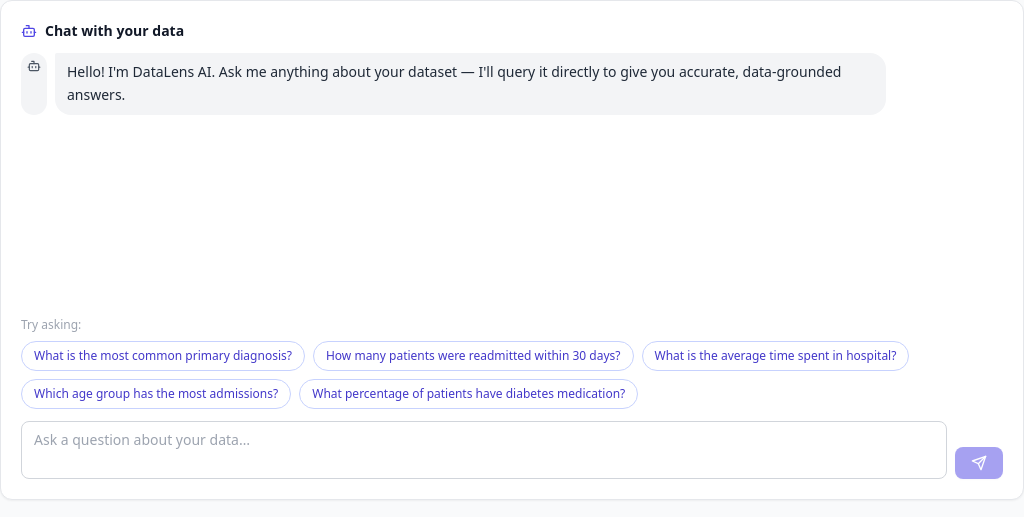
ChatPanel › shows user message after sending
The image size is (1024, 517).
Type "Which country?" into the text box with test id "chat-input" at (484, 450), box [21,421,947,479]
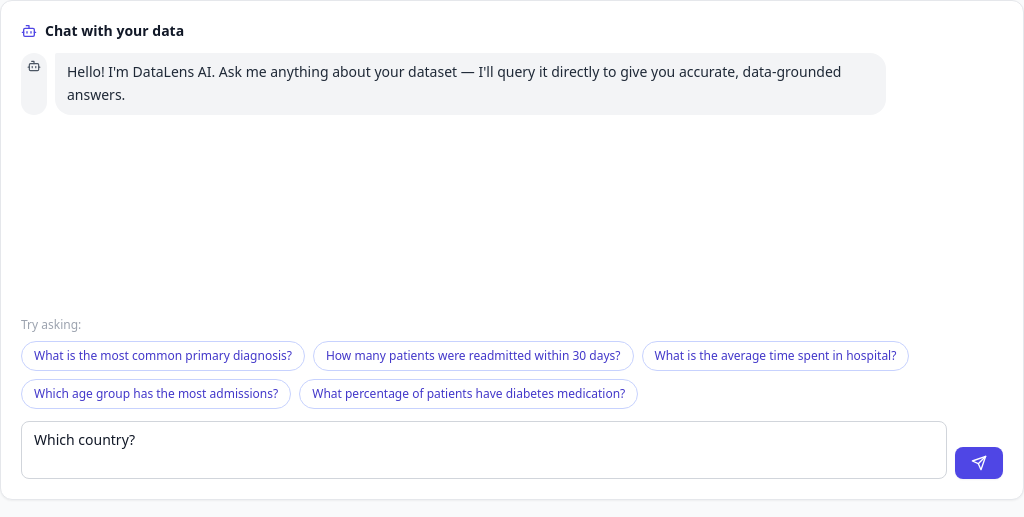
Click the button with test id "chat-send" at (979, 463), box [955,447,1003,479]
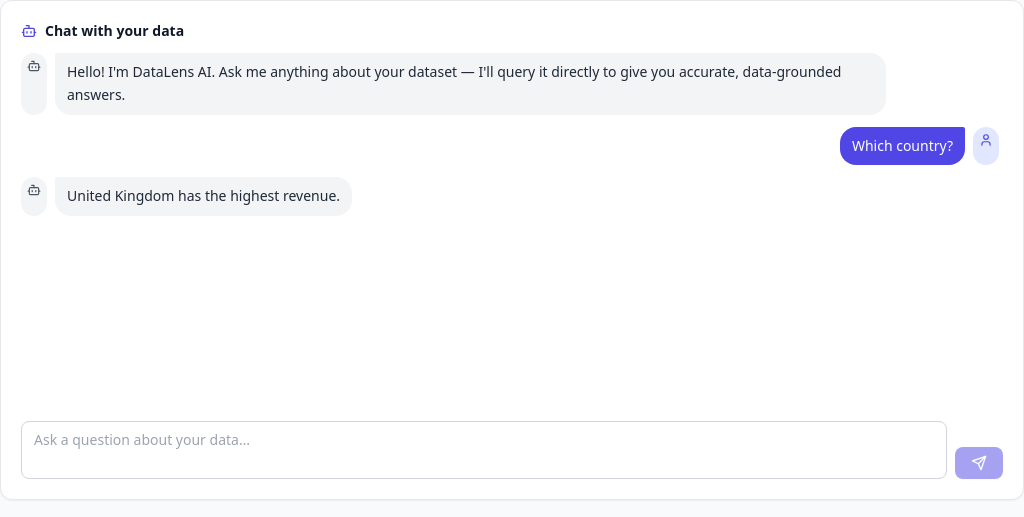
Expected: the text "Which country?" is shown, [852,134,953,157]
Expected: the text "United Kingdom has the highest revenue." is shown, [67,185,340,208]
